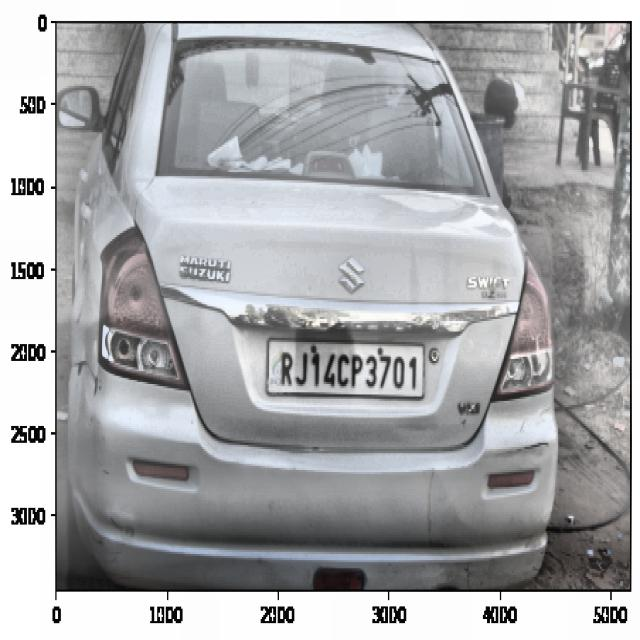license_plate: (273, 338, 422, 400)
